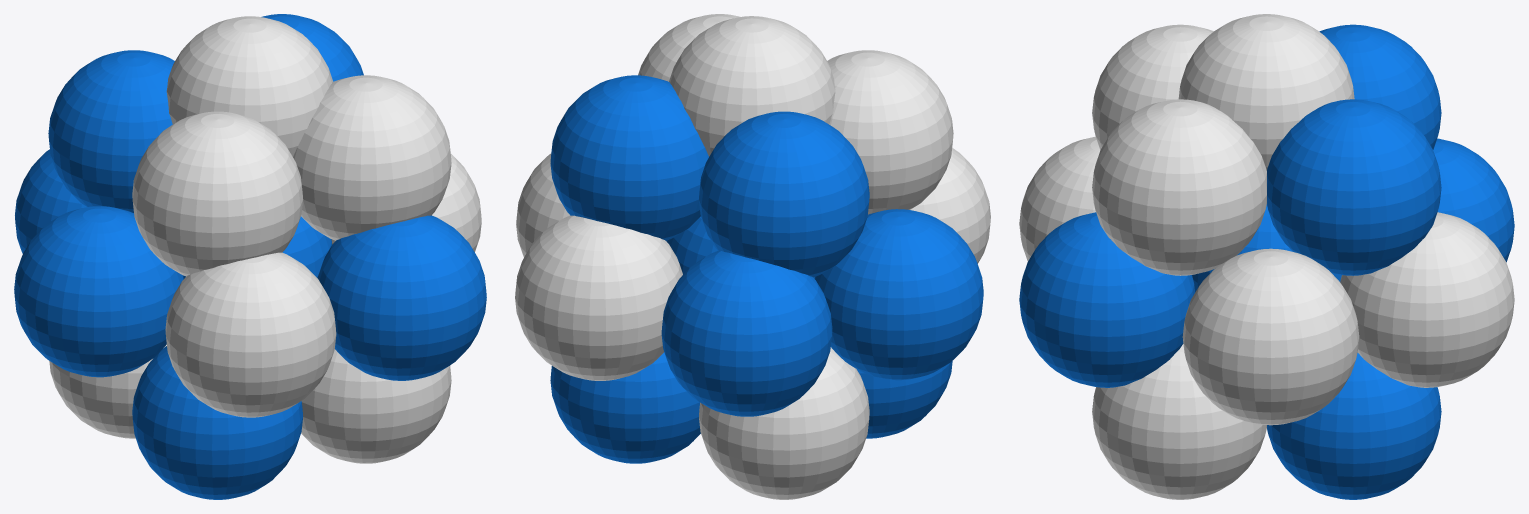
Rendered from oxygenNucleus.fbx.
The picture shows the model from 3 angles, left to right: view 1: azimuth 30°, elevation 25°; view 2: azimuth 150°, elevation 25°; view 3: azimuth 270°, elevation 25°; orthographic projection. The views are drawn at different scales.
Visible parts, largest first — view 1: Neutron3, Neutron5, Proton3, Proton2, Neutron8, Proton6, Neutron6, Proton7, Neutron4, Neutron7, Proton4, Neutron2 (+2 smaller); view 2: Proton4, Proton7, Proton3, Neutron1, Proton8, Neutron7, Neutron6, Neutron5, Proton5, Neutron3, Proton6, Neutron2 (+2 smaller); view 3: Neutron2, Neutron8, Proton8, Proton2, Neutron1, Neutron4, Proton5, Neutron6, Proton7, Neutron5, Neutron3, Proton4 (+1 smaller).
Part boxes in pixels (x1,y1,x2,y2): Neutron3: (165, 252, 336, 417); Neutron5: (132, 111, 303, 276); Proton3: (14, 206, 183, 377); Proton2: (317, 215, 486, 380); Neutron8: (293, 75, 451, 240); Proton6: (132, 346, 303, 499); Neutron6: (166, 16, 333, 156); Proton7: (48, 50, 174, 212); Neutron4: (301, 349, 451, 463); Neutron7: (49, 344, 166, 438); Proton4: (15, 149, 87, 253); Neutron2: (331, 154, 481, 251); Proton4: (661, 251, 832, 416); Proton7: (699, 111, 869, 277); Proton3: (814, 209, 983, 380); Neutron1: (515, 215, 682, 380); Proton8: (550, 75, 708, 240); Neutron7: (699, 347, 869, 499); Neutron6: (669, 16, 835, 156); Neutron5: (827, 50, 953, 214); Proton5: (550, 352, 700, 463); Neutron3: (910, 148, 990, 263); Proton6: (857, 361, 952, 438); Neutron2: (516, 153, 569, 257); Neutron2: (1182, 248, 1359, 425); Neutron8: (1092, 99, 1266, 275); Proton8: (1267, 99, 1441, 275); Proton2: (1019, 212, 1194, 387); Neutron1: (1340, 212, 1514, 387); Neutron4: (1092, 344, 1266, 499); Proton5: (1267, 353, 1441, 499); Neutron6: (1178, 14, 1354, 170); Proton7: (1319, 24, 1441, 149); Neutron5: (1092, 24, 1213, 149); Neutron3: (1019, 136, 1100, 261); Proton4: (1433, 138, 1514, 262).
Bounding box in the file's own units: 300 × 270 × 280.
